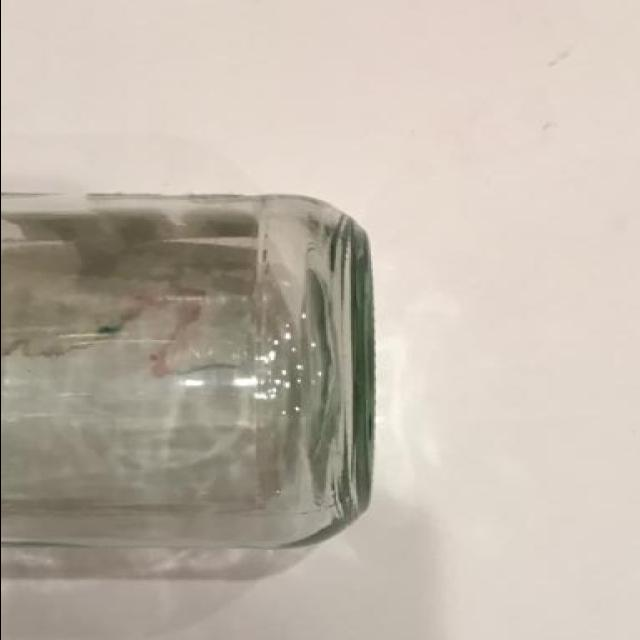Glass Bottle: (0, 192, 379, 555)
